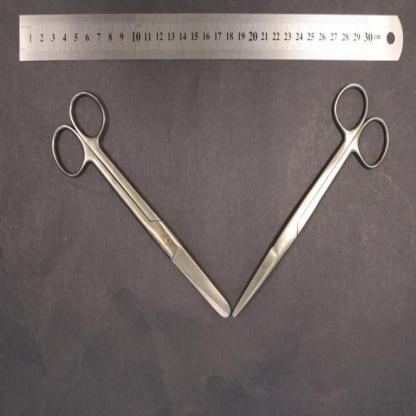Curved Mayo Scissors: (232, 81, 391, 320)
Dressing Scissors: (51, 88, 232, 320)
